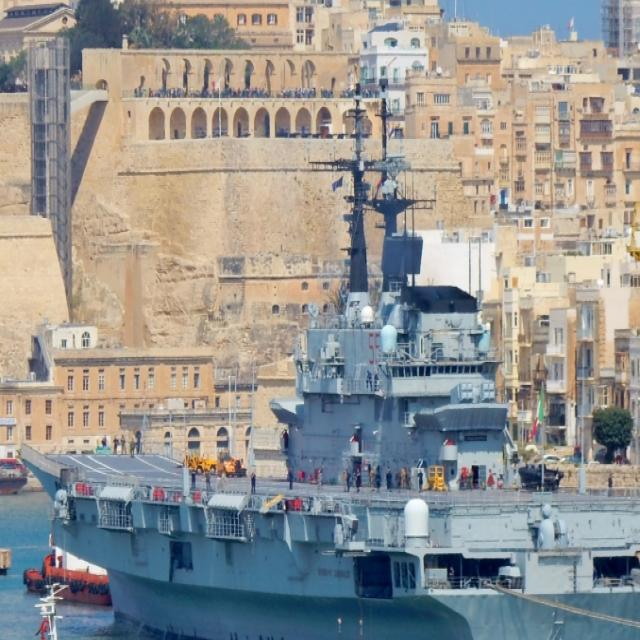Portanaves: (14, 76, 640, 640)
